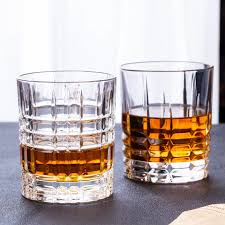air: (117, 101, 216, 167), (18, 129, 117, 181)
